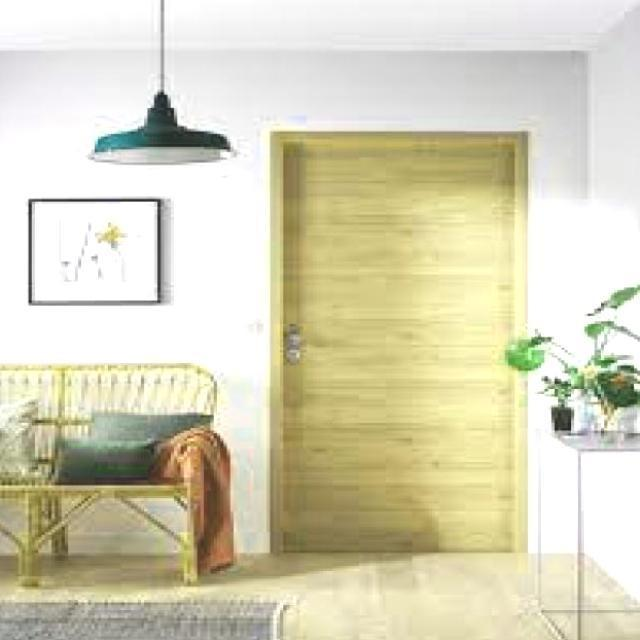door: (269, 128, 529, 554)
